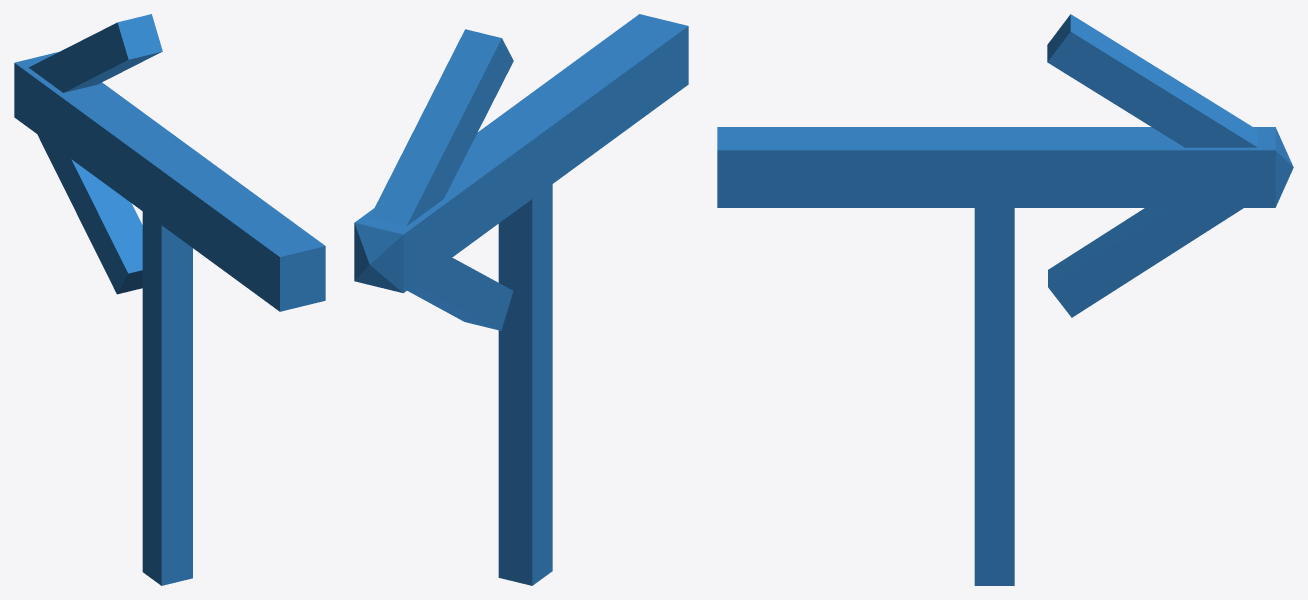
File: arrow.fbx
3 renders of one model, left to right at view 1: azimuth 30°, elevation 25°; view 2: azimuth 150°, elevation 25°; view 3: azimuth 270°, elevation 25°, orthographic. The views are drawn at different scales.
Parts seen in each view (by area): view 1: Cube.001, Cube, Cube.003, Cube.002; view 2: Cube.001, Cube, Cube.002, Cube.003; view 3: Cube.001, Cube, Cube.002, Cube.003.
Part boxes in pixels (x1,y1,x2,y2): Cube.001: [14, 51, 325, 311]; Cube: [142, 211, 192, 585]; Cube.003: [37, 134, 142, 294]; Cube.002: [29, 14, 162, 92]; Cube.001: [354, 14, 688, 293]; Cube: [498, 184, 552, 585]; Cube.002: [370, 29, 513, 226]; Cube.003: [407, 257, 513, 330]; Cube.001: [717, 127, 1293, 207]; Cube: [974, 208, 1014, 585]; Cube.002: [1047, 14, 1257, 147]; Cube.003: [1048, 208, 1243, 317].
Size of the model in its own units: 25.38 by 281 by 264.
